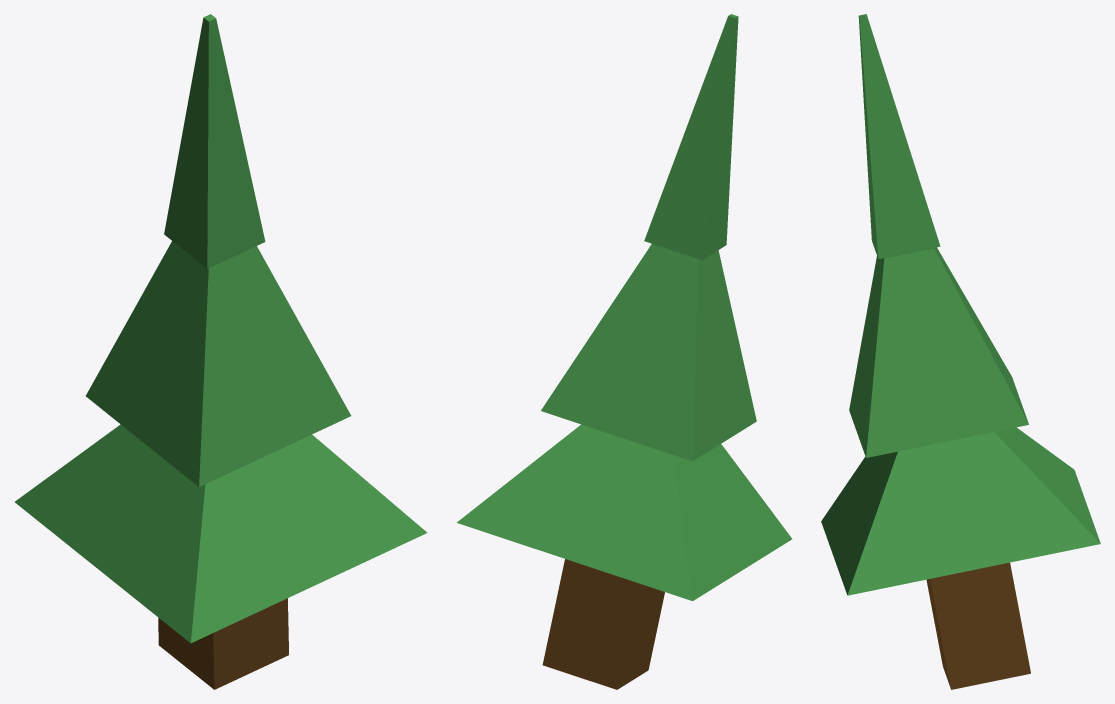
The picture shows the model from 3 angles, left to right: view 1: azimuth 30°, elevation 25°; view 2: azimuth 150°, elevation 25°; view 3: azimuth 270°, elevation 25°; orthographic projection. The views are drawn at different scales.
Visible parts, largest first — view 1: Cube.008; view 2: Cube.008; view 3: Cube.008.
Boxes of the visible parts, box(x1,y1,x2,y2) form: Cube.008: box(15, 14, 427, 689); Cube.008: box(457, 14, 792, 689); Cube.008: box(821, 14, 1100, 689).
Bounding box in the file's own units: 2.19 × 5.3 × 2.13.
